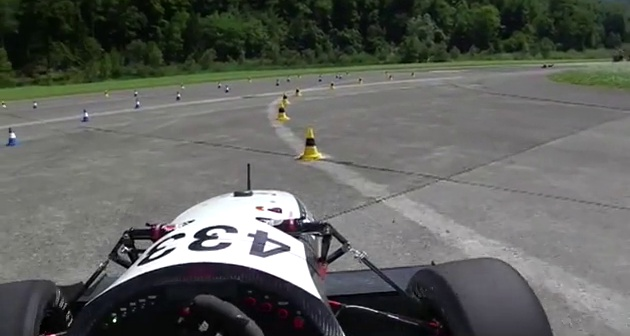Cone: (296, 128, 325, 163), (276, 99, 290, 123), (6, 127, 22, 146)
